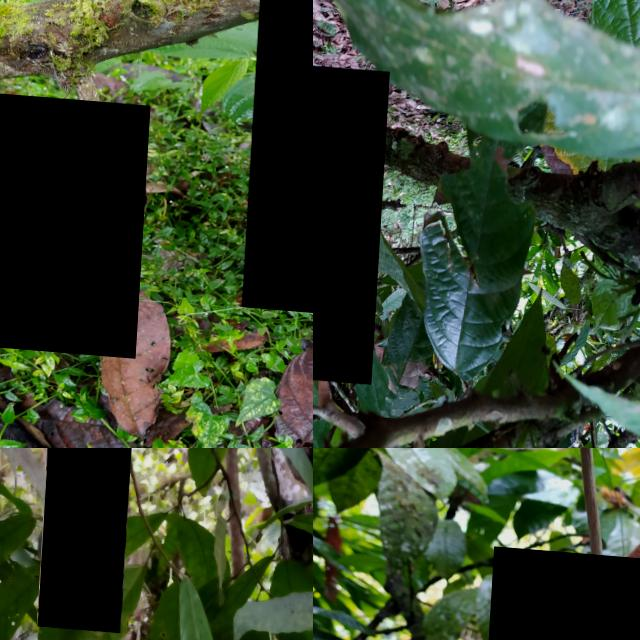Fitoftora: (0, 92, 153, 354), (43, 448, 139, 627)
Monilia: (313, 60, 392, 378), (478, 542, 640, 640)
